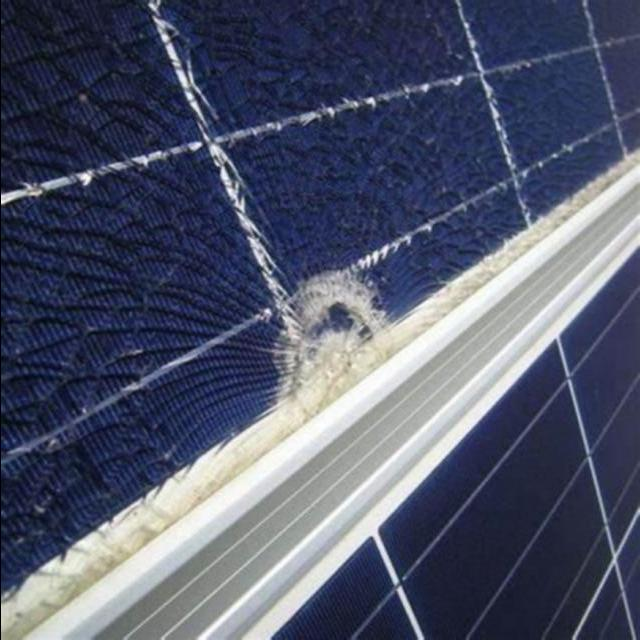cracked: (3, 2, 634, 620)
